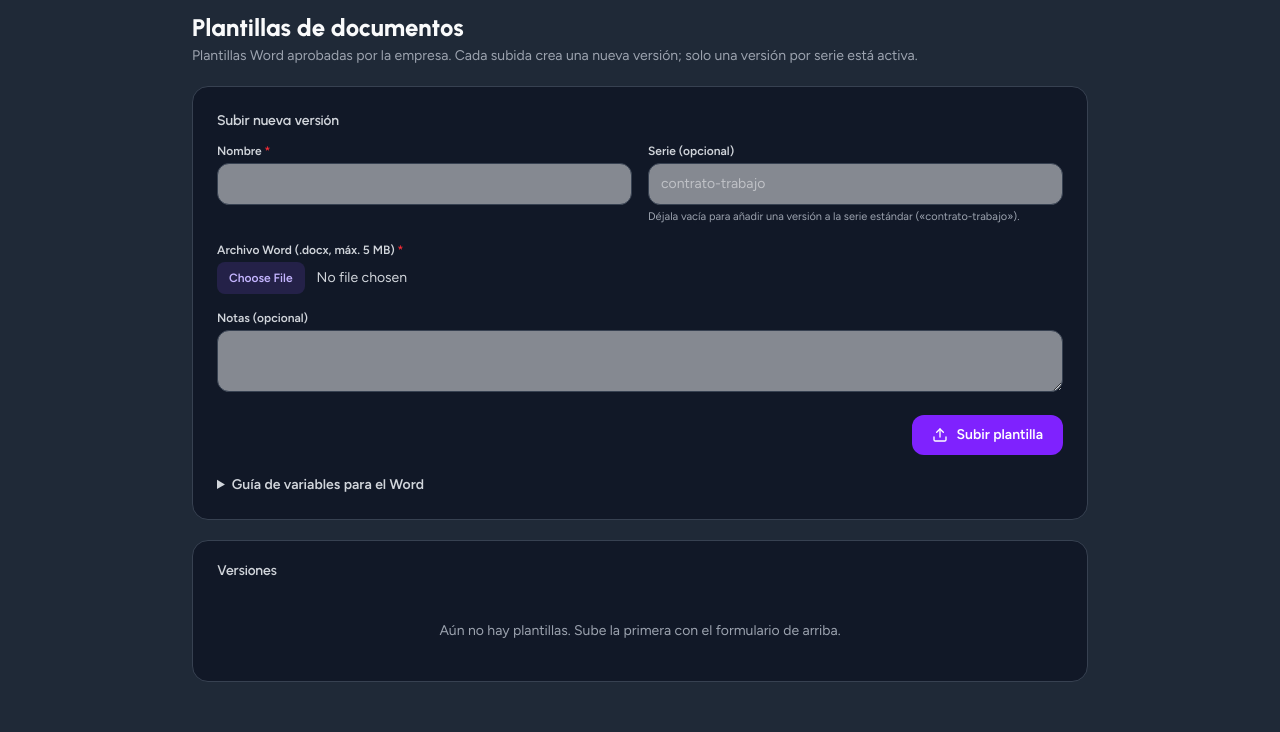
Test: HRTemplatesPage — subida › sin nombre enfoca el nombre; sin archivo pide seleccionar uno
The image size is (1280, 732).
Expected: the text "Aún no hay plantillas" is shown, [439,622,841,638]
Click the button "Subir plantilla" at (988,434), box [912,414,1063,454]
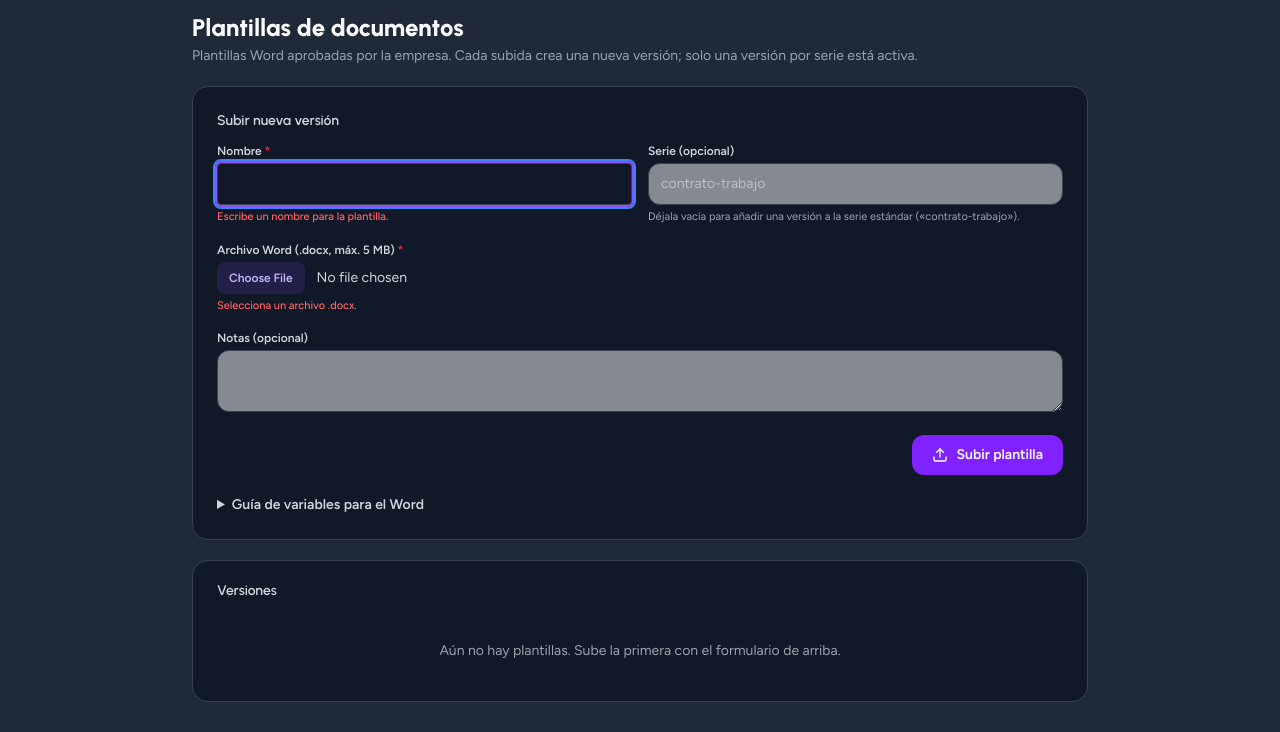
Result: the text "Selecciona un archivo .docx." is shown at [217,298,357,312]
